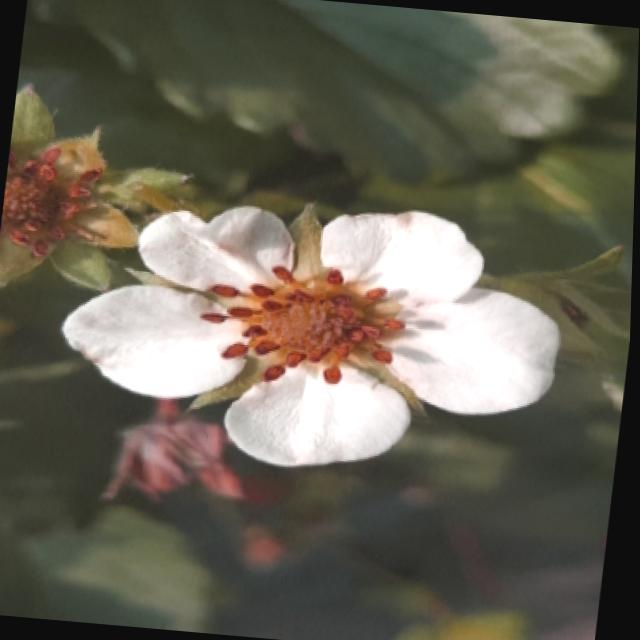Blossom Blight: (195, 258, 415, 393), (0, 139, 112, 259)
